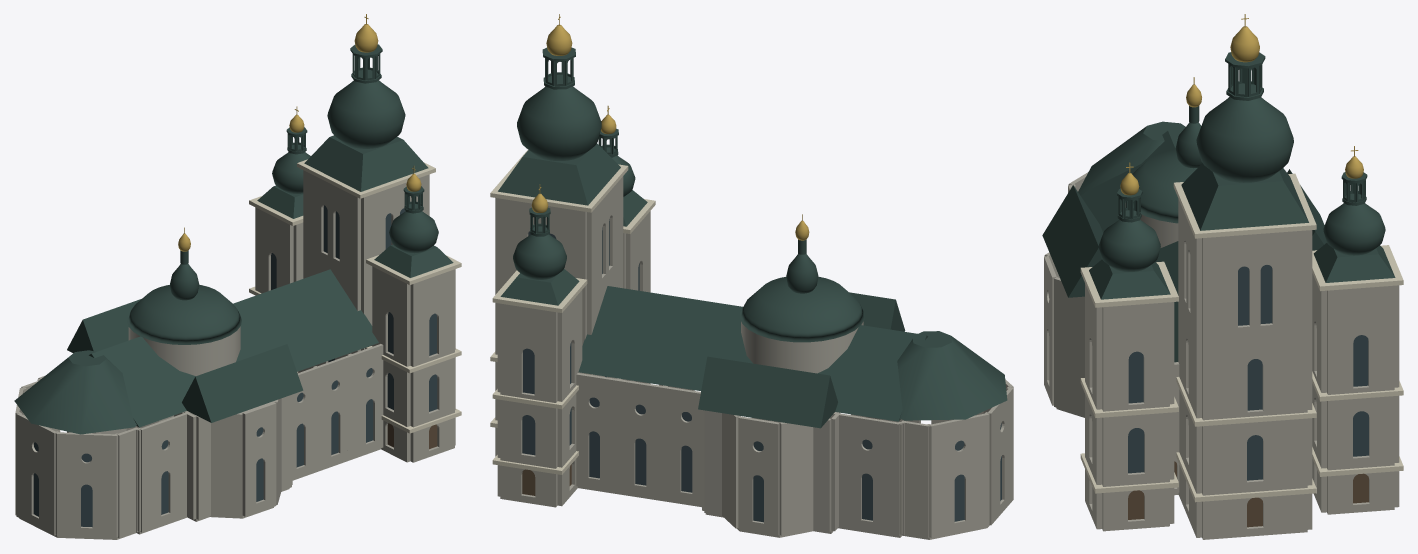
The model's file is cathedral-transfiguration-markham-near.glb.
3 renders of one model, left to right at view 1: azimuth 30°, elevation 25°; view 2: azimuth 150°, elevation 25°; view 3: azimuth 270°, elevation 25°, orthographic. The views are drawn at different scales.
Visible parts, largest first — view 1: cathedral-transfiguration-markham-0-stone, cathedral-transfiguration-markham-0-copper, cathedral-transfiguration-markham-0-glass, cathedral-transfiguration-markham-0-trim, cathedral-transfiguration-markham-0-gold; view 2: cathedral-transfiguration-markham-0-stone, cathedral-transfiguration-markham-0-copper, cathedral-transfiguration-markham-0-glass, cathedral-transfiguration-markham-0-trim, cathedral-transfiguration-markham-0-gold; view 3: cathedral-transfiguration-markham-0-stone, cathedral-transfiguration-markham-0-copper, cathedral-transfiguration-markham-0-trim, cathedral-transfiguration-markham-0-glass, cathedral-transfiguration-markham-0-gold, cathedral-transfiguration-markham-0-door.
Part boxes in pixels (box(x1,y1,x2,y2)): cathedral-transfiguration-markham-0-stone: box(15, 170, 455, 539); cathedral-transfiguration-markham-0-copper: box(14, 44, 453, 434); cathedral-transfiguration-markham-0-glass: box(33, 205, 437, 527); cathedral-transfiguration-markham-0-trim: box(249, 159, 461, 433); cathedral-transfiguration-markham-0-gold: box(178, 14, 421, 251); cathedral-transfiguration-markham-0-stone: box(495, 176, 1013, 539); cathedral-transfiguration-markham-0-copper: box(498, 47, 1007, 428); cathedral-transfiguration-markham-0-glass: box(522, 219, 1001, 522); cathedral-transfiguration-markham-0-trim: box(490, 150, 655, 474); cathedral-transfiguration-markham-0-gold: box(531, 14, 809, 240); cathedral-transfiguration-markham-0-stone: box(1044, 172, 1399, 539); cathedral-transfiguration-markham-0-copper: box(1042, 52, 1395, 362); cathedral-transfiguration-markham-0-trim: box(1080, 173, 1403, 502); cathedral-transfiguration-markham-0-glass: box(1128, 265, 1368, 480); cathedral-transfiguration-markham-0-gold: box(1120, 14, 1363, 195); cathedral-transfiguration-markham-0-door: box(1128, 461, 1368, 527).
Bounding box in the file's own units: 71.18 × 64 × 42.13.
